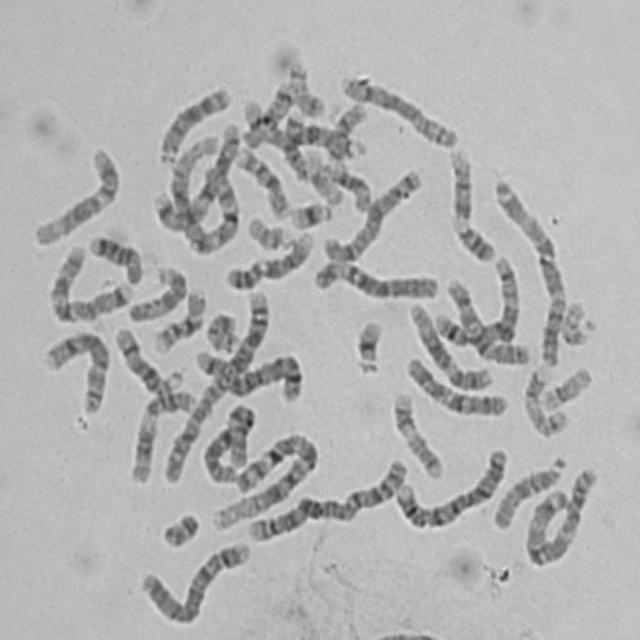A1: (208, 425, 322, 532), (162, 125, 243, 256)
A2: (157, 281, 274, 485), (240, 451, 410, 544)
A3: (487, 172, 569, 366), (519, 460, 601, 569)
B4: (387, 441, 511, 532), (134, 533, 252, 628)
B5: (431, 250, 522, 348), (190, 342, 305, 403)
C10: (446, 278, 532, 374), (400, 349, 510, 420)
C11: (124, 383, 198, 486), (240, 80, 326, 154)
C12: (27, 140, 122, 248), (402, 296, 494, 392)
C6: (308, 252, 442, 303), (197, 397, 259, 485)
C7: (148, 116, 249, 231), (43, 239, 133, 324)
C8: (336, 68, 460, 150), (38, 322, 112, 417)
C9: (442, 139, 498, 264), (220, 224, 316, 292)
D13: (153, 78, 232, 167), (280, 104, 359, 160)
D14: (238, 94, 310, 182), (108, 319, 178, 398)
D15: (487, 448, 569, 532), (123, 260, 189, 322)
E16: (229, 138, 292, 220), (148, 282, 208, 354)
E17: (386, 384, 446, 481), (517, 361, 570, 439)
E18: (83, 228, 144, 286), (324, 165, 371, 216)
F19: (299, 141, 346, 208), (536, 360, 594, 413)
F20: (323, 97, 368, 162), (201, 306, 241, 354)
G21: (349, 312, 386, 375), (285, 193, 333, 230)
G22: (242, 208, 289, 252), (556, 293, 591, 348)
X: (316, 161, 424, 265)
Y: (156, 506, 201, 549)
